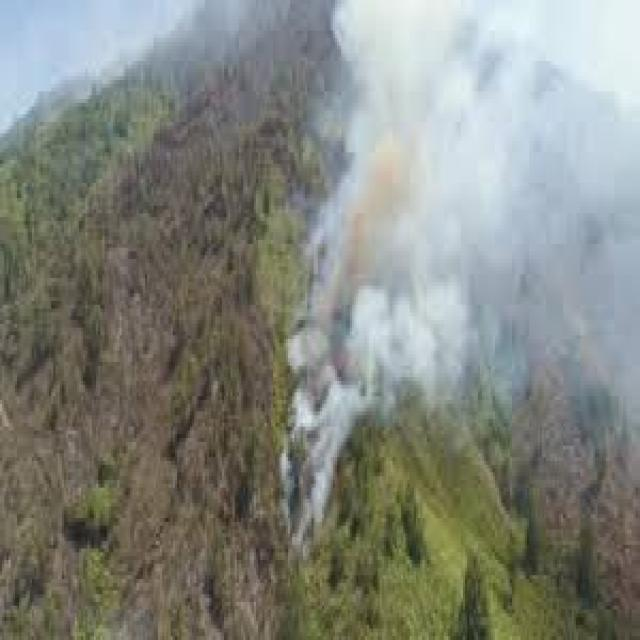Smoke: (288, 221, 485, 528), (487, 227, 639, 512), (319, 0, 486, 221), (489, 0, 639, 223)
